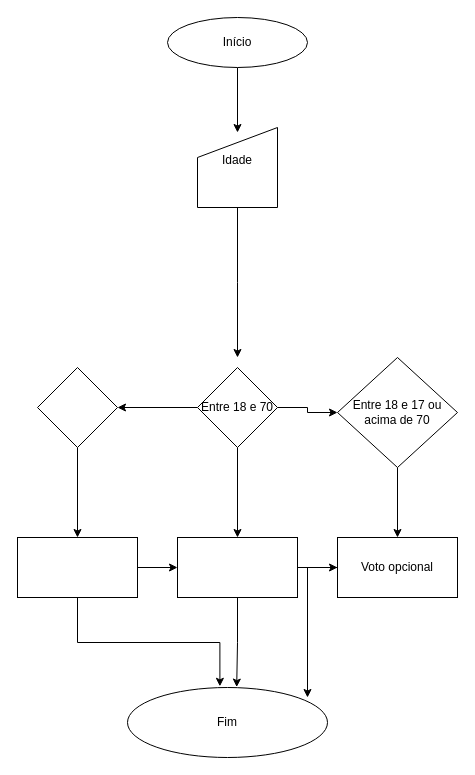
This 475x775 diagram has some shape labels left out. Each missing label, with the centre of its shape:
"Menor que 18" belongs at point (77, 407).
"Não vota" belongs at point (77, 567).
"Voto obrigatório" belongs at point (237, 567).
